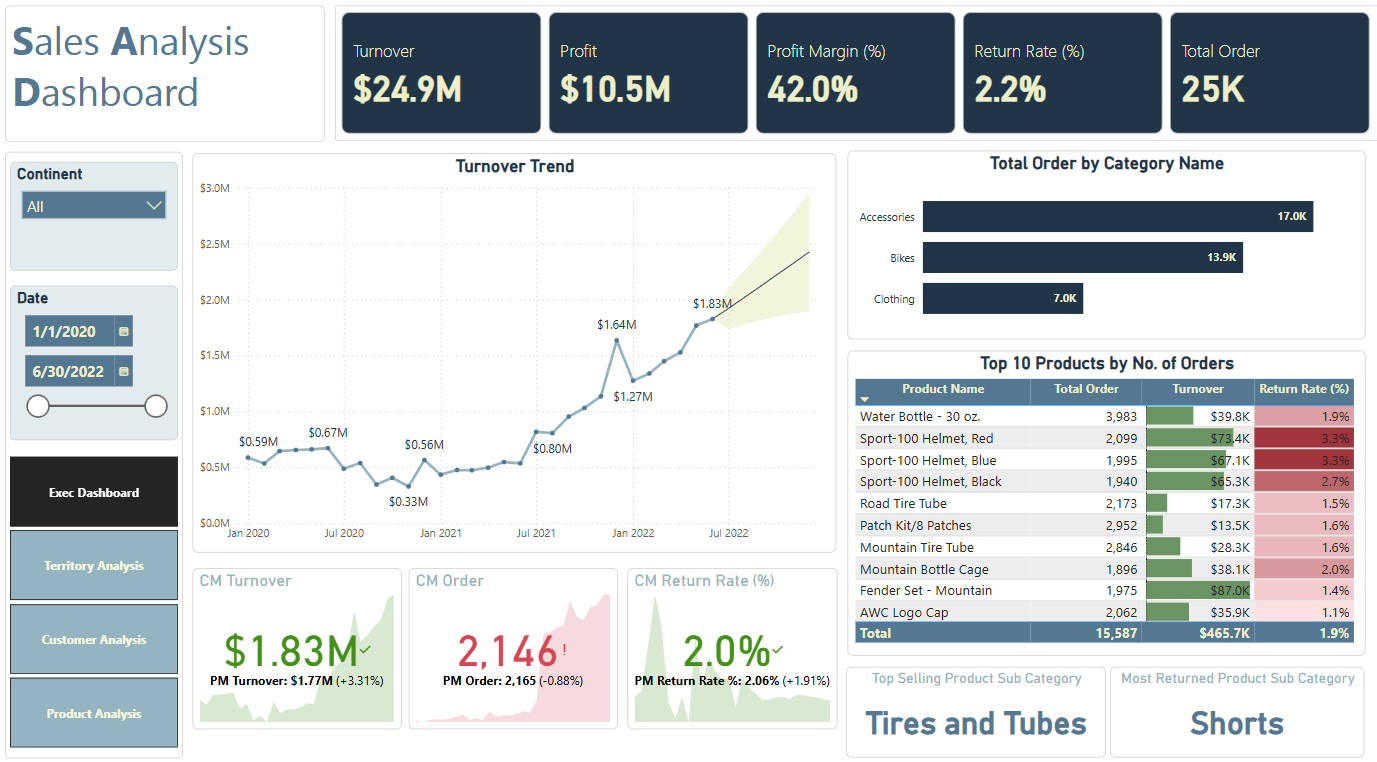

Layout of this report page (visuals, bound fields, positions):
{"tool":"powerbi","page":{"name":"Exec Dashboard","canvas":[1522,850],"ordinal":0},"visuals":[{"type":"cardVisual","fields":{"Data":["_Measure.Turnover","_Measure.Profit","_Measure.Profit Margin (%)","_Measure.Return Rate (%)","_Measure.Total Order"]},"box":[373.9,8.7,1150,148.7],"z":0},{"type":"textbox","box":[11.5,170.4,196.3,668.4],"z":0,"group":"g1"},{"type":"textbox","box":[11.5,8.7,352.2,150.1],"z":1000,"group":"g1"},{"type":"lineChart","title":"Turnover Trend","fields":{"Y":["_Measure.Turnover"],"Category":["Date Lookup.Start of the Month"]},"box":[218,170.3,708.8,440.3],"z":1000},{"type":"clusteredBarChart","fields":{"Y":["_Measure.Total Order"],"Category":["Product Categories Lookup.Category Name"]},"box":[938.4,170.3,570.2,207.9],"z":2000},{"type":"slicer","title":"Continent","fields":{"Values":["Territory Lookup.Continent"]},"box":[17.3,180.5,185,119.8],"z":2000,"group":"g1"},{"type":"slicer","title":"Date","fields":{"Values":["Date Lookup.Date"]},"box":[17.3,317.6,185,170.3],"z":3000,"group":"g1"},{"type":"tableEx","title":"Top 10 Products by No. of Orders","fields":{"Values":["Product Lookup.Product Name","_Measure.Total Order","_Measure.Turnover","_Measure.Return Rate (%)"]},"box":[939.2,387.5,570.2,336.4],"z":3000},{"type":"pageNavigator","box":[17.3,505.3,185,320.5],"z":4000,"group":"g1"},{"type":"card","title":"Top Selling Product Sub Category","fields":{"Values":["Min(Product Subcategories Lookup.Subcategory Name)"]},"box":[937.2,736.8,285.8,99.6],"z":4000},{"type":"card","title":"Most Returned Product Sub Category","fields":{"Values":["Min(Product Subcategories Lookup.Subcategory Name)"]},"box":[1227.4,736.8,280.1,99.6],"z":5000},{"type":"kpi","title":"CM Turnover","fields":{"Goal":["_Measure.PM Turnover"],"Indicator":["_Measure.Turnover"],"TrendLine":["Date Lookup.Start of the Month"]},"box":[218,628,230,177.6],"z":6000},{"type":"kpi","title":"CM Order","fields":{"TrendLine":["Date Lookup.Start of the Month"],"Indicator":["_Measure.Total Order"],"Goal":["_Measure.PM Order"]},"box":[456.2,628,230,177.6],"z":7000},{"type":"kpi","title":"CM Return Rate (%)","fields":{"TrendLine":["Date Lookup.Start of the Month"],"Indicator":["_Measure.Return Rate (%)"],"Goal":["_Measure.PM Return Rate"]},"box":[695.8,628,231,177.6],"z":8000},{"type":"group","id":"g1","title":"Slicer Pane","box":[11.5,8.7,352.2,830.1],"z":9000},{"type":"image","box":[233.9,40.4,129.9,140],"z":10000}]}

Visuals, with their boxes in screenshot pixels (x1, y1, x2, y2), scaled from the page's 1522x850 canvas onto the 1377x762 screenshot:
cardVisual - _Measure.Turnover x _Measure.Profit: 338 8 1376 141
textbox: 10 153 188 752
textbox: 10 8 329 142
"Turnover Trend" lineChart: 197 153 839 547
clusteredBarChart - _Measure.Total Order x Product Categories Lookup.Category Name: 849 153 1365 339
"Continent" slicer: 16 162 183 269
"Date" slicer: 16 285 183 437
"Top 10 Products by No. of Orders" tableEx: 850 347 1366 649
pageNavigator: 16 453 183 740
"Top Selling Product Sub Category" card: 848 661 1106 750
"Most Returned Product Sub Category" card: 1110 661 1364 750
"CM Turnover" kpi: 197 563 405 722
"CM Order" kpi: 413 563 621 722
"CM Return Rate (%)" kpi: 630 563 839 722
"Slicer Pane" group: 10 8 329 752
image: 212 36 329 162
